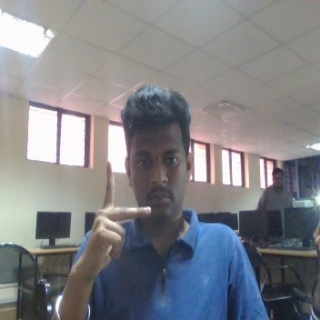Okay: (78, 159, 153, 276)
